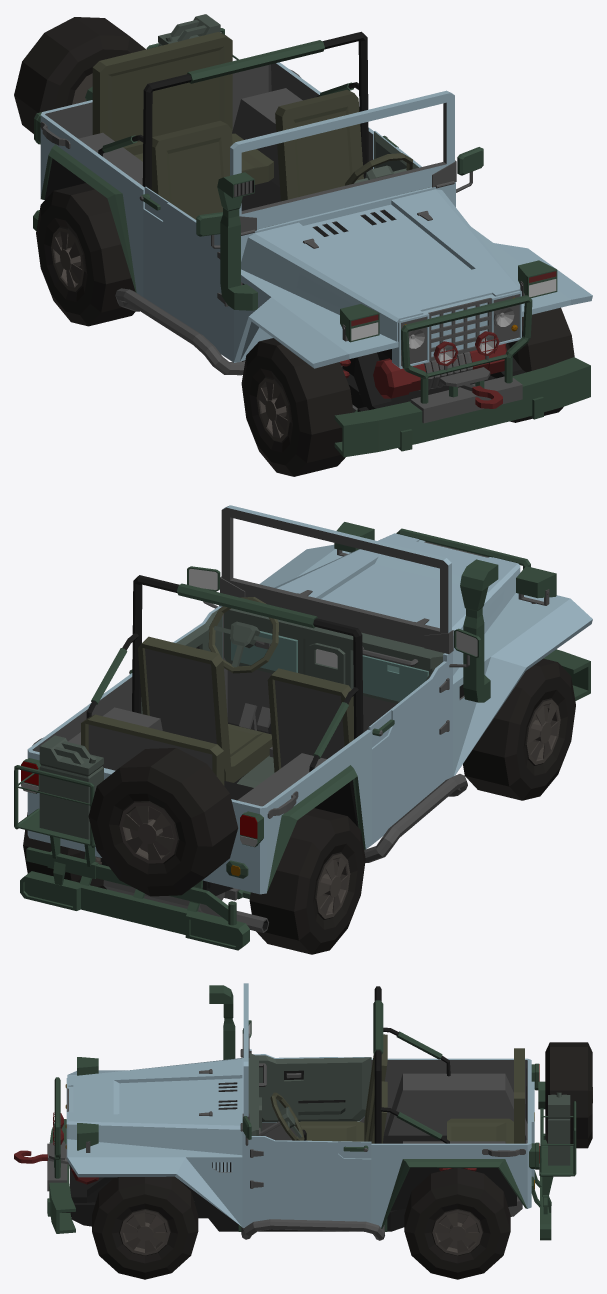
Rendered from Jeep.fbx.
3 views of the same model, one above another, from view 1: azimuth 30°, elevation 25°; view 2: azimuth 150°, elevation 25°; view 3: azimuth 270°, elevation 25° (orthographic). The views are drawn at different scales.
Parts seen in each view (by area): view 1: Body, Interior, Front Bumper, FR, RR, Wind Shield, Trunk Wheel, Doors Right, Head Lights Panel, Air Intake, FL, Hook Holder (+6 smaller); view 2: Body, Interior, Trunk Wheel, RR, Rear Bumper, FR, Wind Shield, Doors Right, Fuel Tank, Air Intake, Front Bumper, Steering Wheel (+7 smaller); view 3: Body, RL, FL, Door Left, Doors Right, Interior, Trunk Wheel, Underbody Protection, Front Bumper, Rear Bumper, Fuel Tank, Air Intake (+3 smaller).
Part boxes in pixels (x1,y1,x2,y2): Body: (34, 31, 592, 375); Interior: (92, 32, 429, 229); Front Bumper: (334, 295, 590, 457); FR: (241, 338, 353, 476); RR: (36, 183, 135, 326); Wind Shield: (230, 90, 456, 235); Trunk Wheel: (14, 17, 145, 133); Doors Right: (143, 186, 228, 322); Head Lights Panel: (392, 291, 521, 368); Air Intake: (217, 172, 257, 310); FL: (506, 307, 574, 422); Hook Holder: (373, 344, 506, 398); Body: (21, 533, 592, 894); Interior: (81, 608, 444, 787); Trunk Wheel: (88, 748, 237, 896); RR: (249, 808, 365, 954); Rear Bumper: (14, 765, 249, 950); FR: (463, 658, 575, 800); Wind Shield: (220, 505, 453, 653); Doors Right: (368, 661, 449, 806); Fuel Tank: (39, 735, 103, 839); Air Intake: (460, 559, 498, 702); Front Bumper: (396, 528, 590, 700); Steering Wheel: (208, 597, 278, 673); Body: (67, 986, 539, 1240); RL: (404, 1168, 510, 1279); FL: (92, 1176, 198, 1279); Door Left: (250, 1136, 371, 1206); Doors Right: (254, 1054, 371, 1122); Interior: (248, 1034, 524, 1143); Trunk Wheel: (545, 1042, 592, 1148); Underbody Protection: (62, 1165, 522, 1231); Front Bumper: (47, 1077, 75, 1233); Rear Bumper: (531, 1081, 576, 1240); Fuel Tank: (548, 1092, 570, 1165); Air Intake: (209, 985, 235, 1059).
Bounding box in the file's own units: 209 × 190 × 480.
